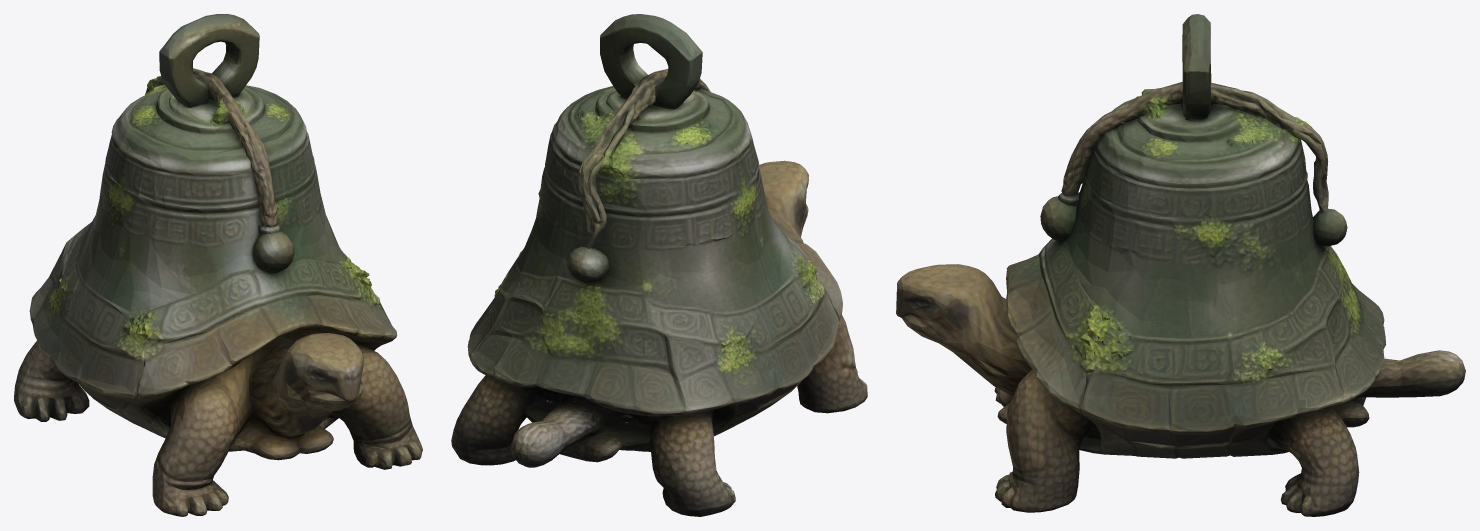
The model's file is oldHollowbell.glb.
3 views of the same model, side by side, from view 1: azimuth 30°, elevation 25°; view 2: azimuth 150°, elevation 25°; view 3: azimuth 270°, elevation 25° (orthographic). The views are drawn at different scales.
Visible parts, largest first — view 1: world; view 2: world; view 3: world.
Boxes of the visible parts, x1,y1,x2,y2 form: world: (14,14,422,516); world: (451,14,867,516); world: (896,14,1465,516).
Size of the model in its own units: 0.6288 by 0.836 by 1.
1 material, 1 textured.
